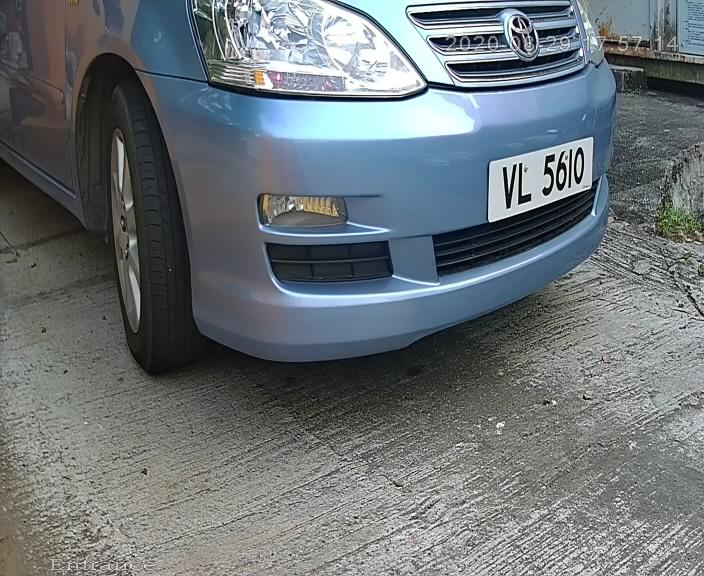License Plate: (478, 129, 604, 229)
